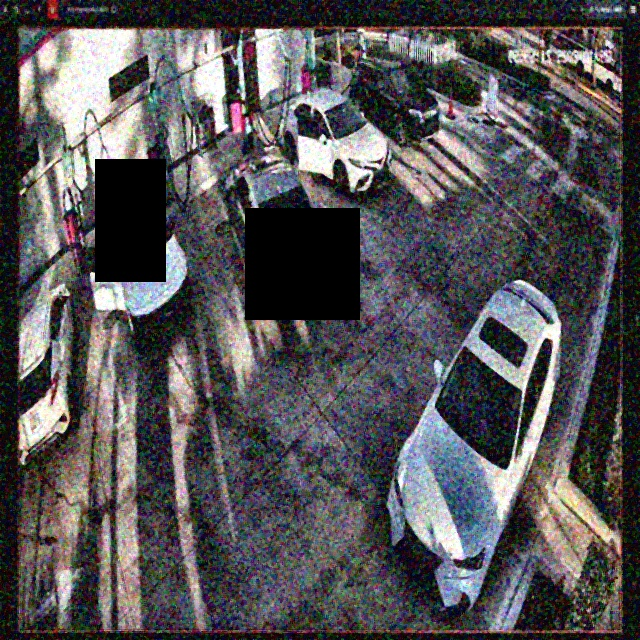Car: (383, 279, 561, 616), (88, 182, 192, 346), (224, 153, 329, 301), (277, 91, 389, 189), (349, 59, 439, 148)
